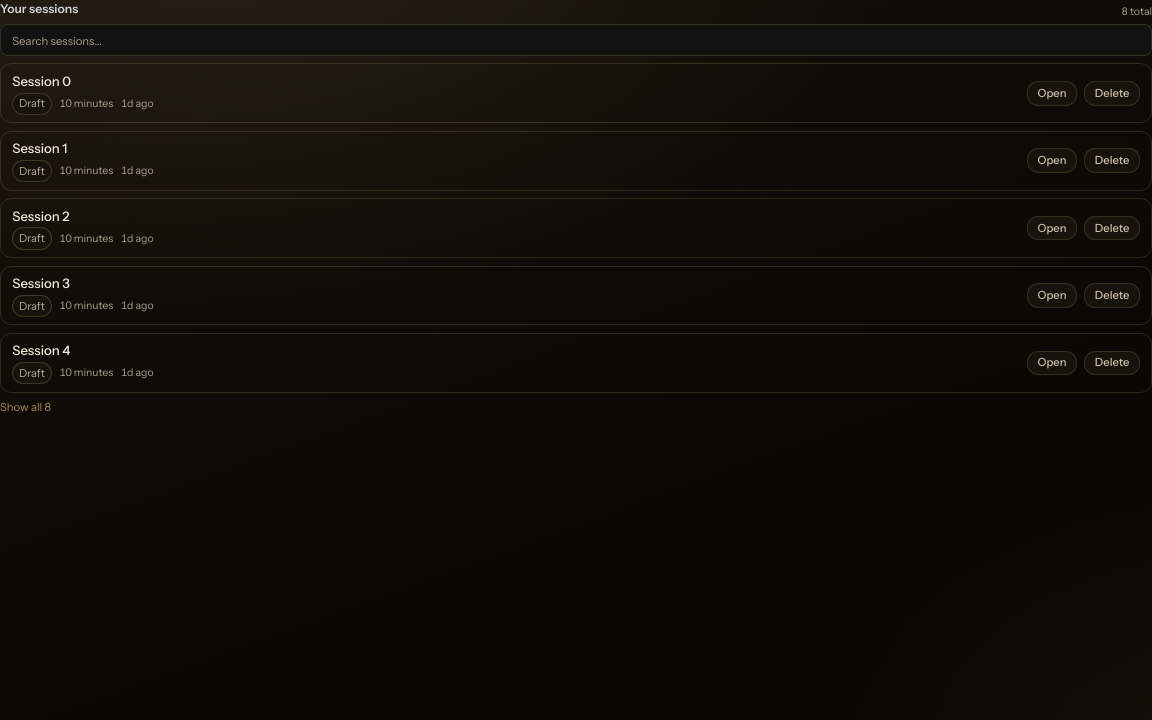
it: AmbientHistory › collapses a long history behind search and Show all
The image size is (1152, 720).
expect the text "Session 4" is shown: met, box [12,342,70,358]
Type "7" into the search field labelled "Search sessions".
click(576, 40); type("7")  # box [0,24,1151,56]
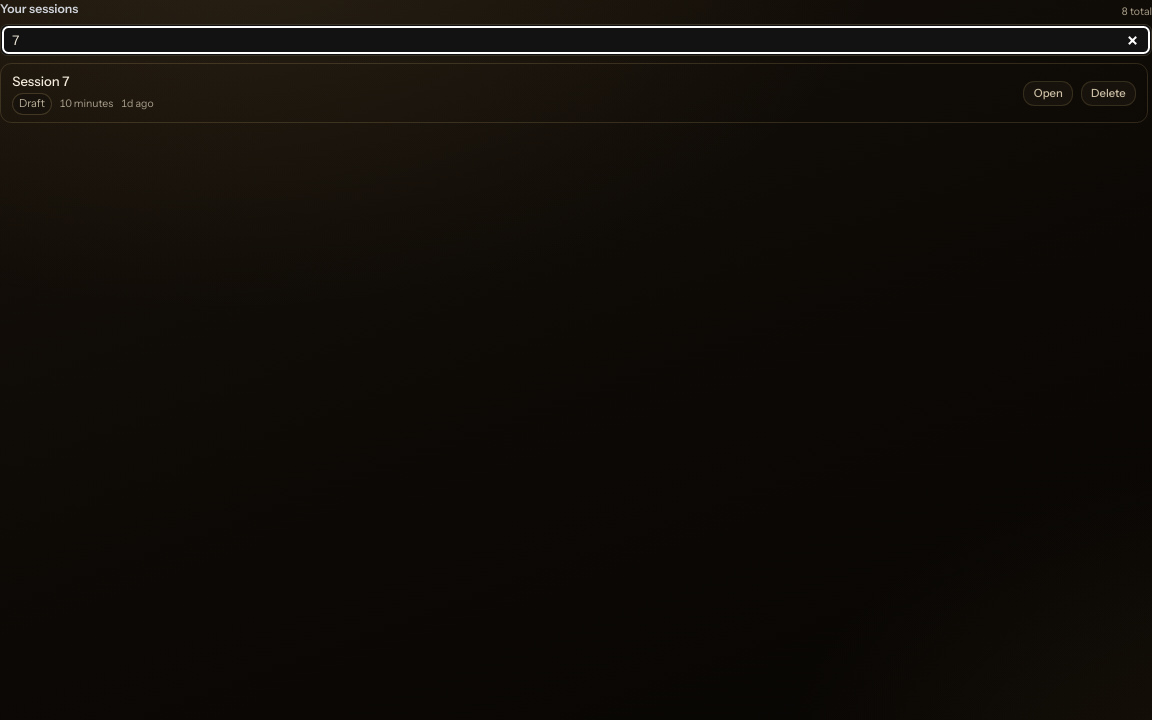
expect the text "Session 7" is shown: met, box [12,73,69,89]
expect the text "Session 0" is gone: met
